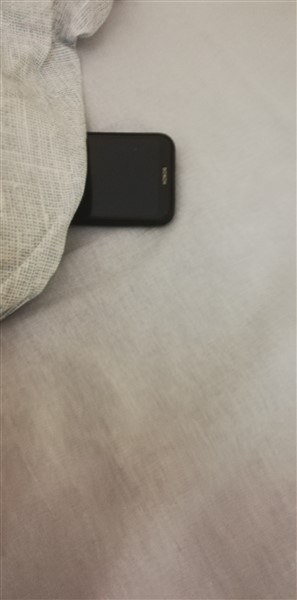telefon: (67, 127, 179, 232)
